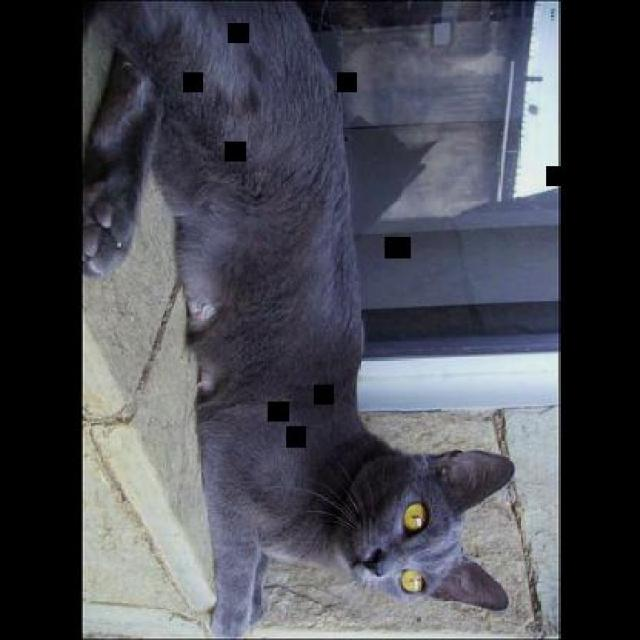unauthorized: (79, 0, 515, 638)
